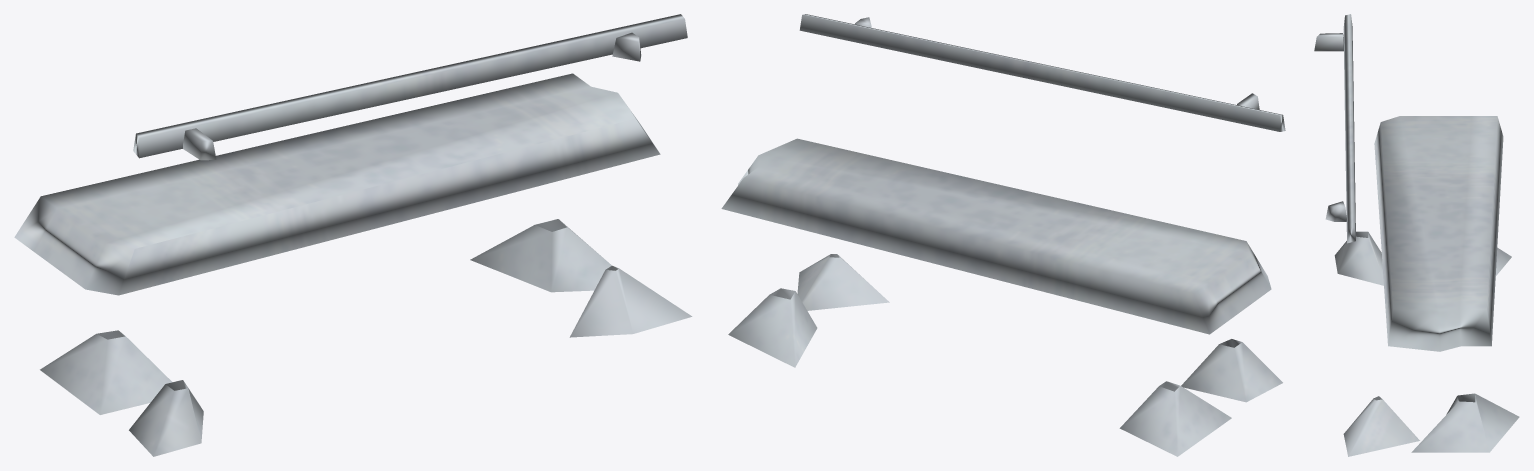
File: Bench_Snow.fbx
3 renders of one model, left to right at view 1: azimuth 30°, elevation 25°; view 2: azimuth 150°, elevation 25°; view 3: azimuth 270°, elevation 25°, orthographic. The views are drawn at different scales.
Visible parts, largest first — view 1: Bench_Snow; view 2: Bench_Snow; view 3: Bench_Snow.
Boxes of the visible parts, x1,y1,x2,y2 form: Bench_Snow: [14, 14, 692, 456]; Bench_Snow: [721, 14, 1285, 456]; Bench_Snow: [1314, 14, 1519, 456].
Bounding box in the file's own units: 194 × 100 × 78.21.
